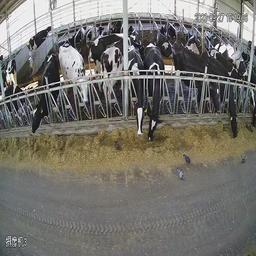cow: (172, 39, 219, 109), (29, 54, 58, 138), (61, 42, 92, 115), (145, 43, 165, 141), (217, 60, 241, 138), (128, 43, 145, 135), (27, 21, 51, 54), (157, 24, 171, 56), (3, 55, 16, 88), (184, 29, 201, 53), (65, 29, 81, 47), (85, 24, 97, 42), (96, 23, 107, 39)
